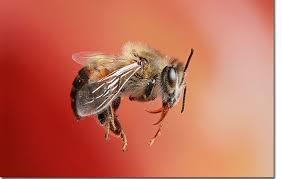Apis-mellifera-scutellata: (62, 37, 202, 154)
